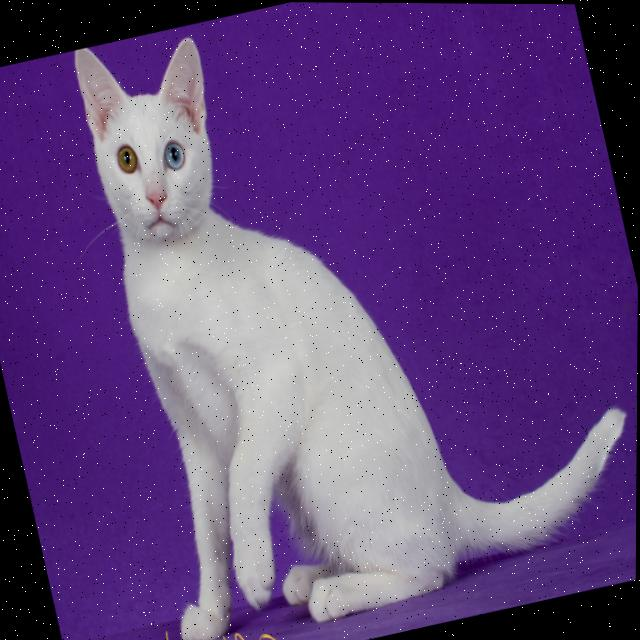Khao Manee: (40, 0, 640, 640)
